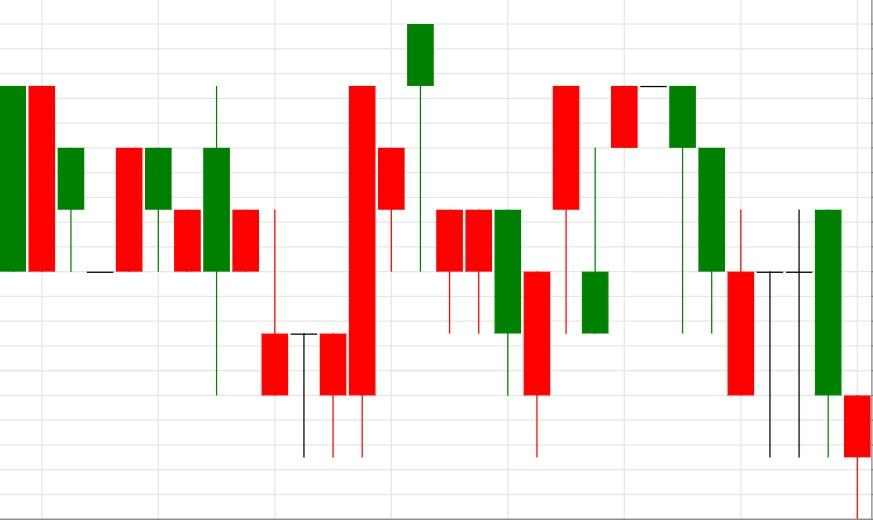hanging_man_fall: (289, 23, 435, 458), (581, 85, 697, 334)
